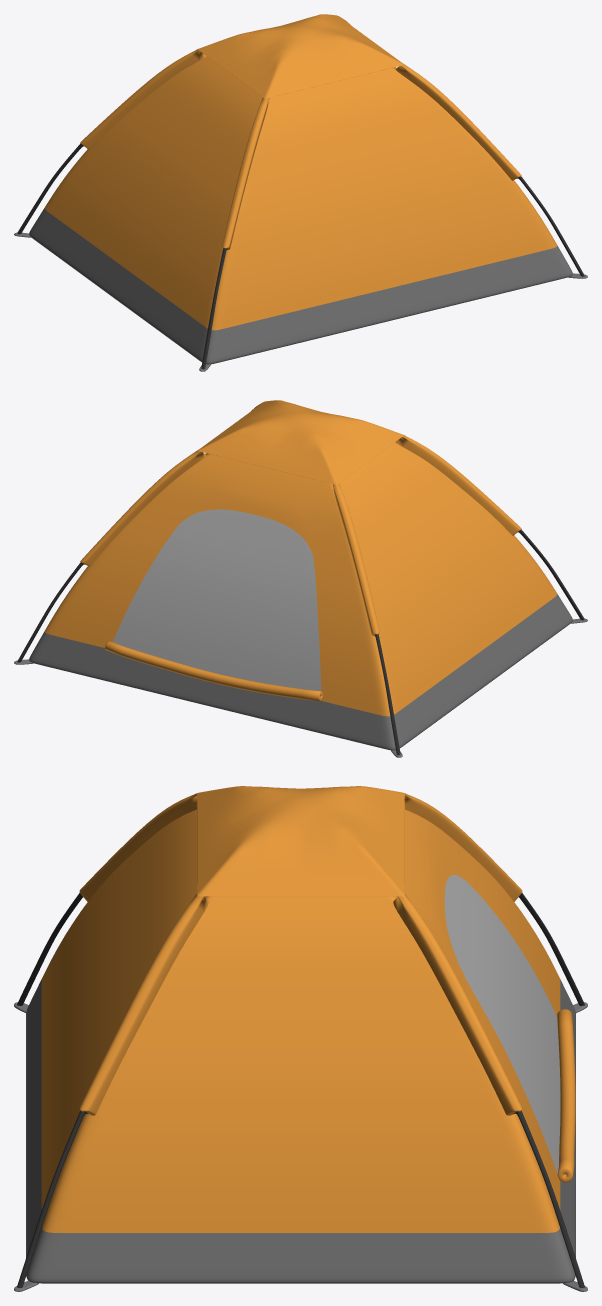
File: Tent.fbx
3 views of the same model, one above another, from view 1: azimuth 30°, elevation 25°; view 2: azimuth 150°, elevation 25°; view 3: azimuth 270°, elevation 25° (orthographic). The views are drawn at different scales.
Parts seen in each view (by area): view 1: Cube, Cube.001; view 2: Cube, Cube.001, Cylinder; view 3: Cube, Cube.001, Cylinder.
Part boxes in pixels (<box>): Cube: <box>29,56,572,364</box>; Cube.001: <box>17,14,584,369</box>; Cube: <box>29,442,572,750</box>; Cube.001: <box>17,400,584,755</box>; Cylinder: <box>105,641,323,701</box>; Cube: <box>26,809,575,1283</box>; Cube.001: <box>17,786,584,1287</box>; Cylinder: <box>557,1009,575,1182</box>.
Size of the model in its own units: 333 by 187 by 280.
